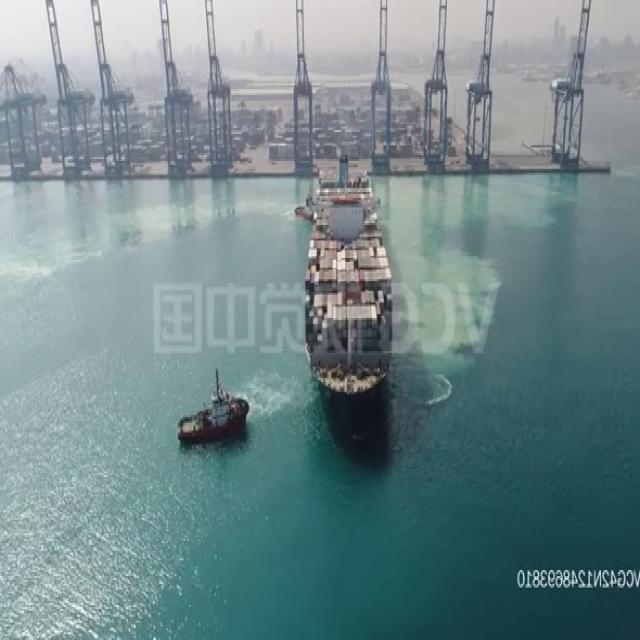cargoship: (306, 156, 392, 390)
houseboat: (183, 377, 250, 445), (291, 179, 317, 222)
